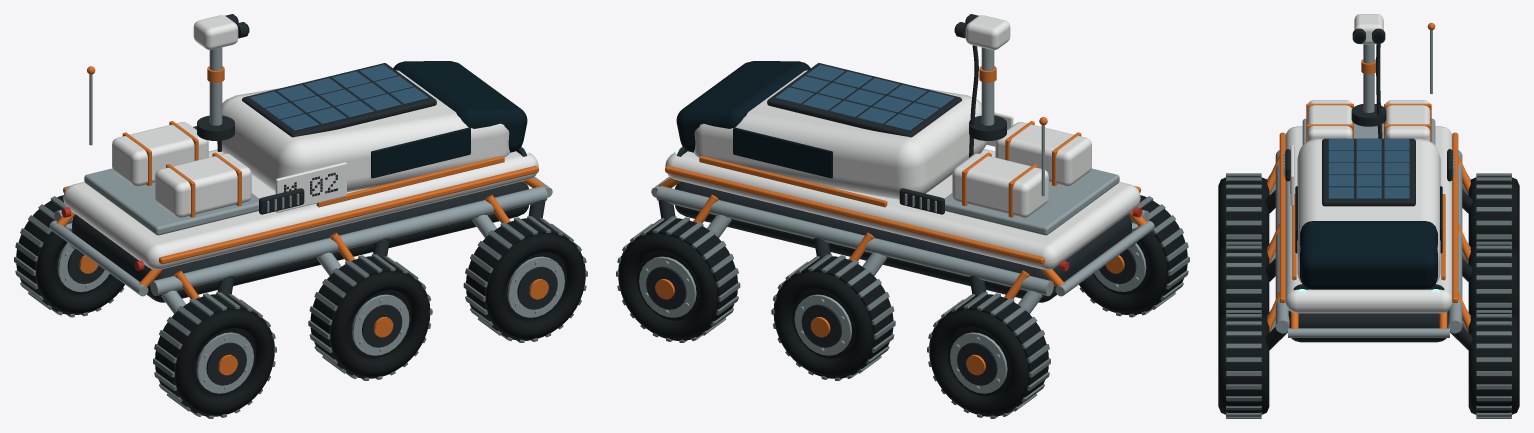
File: rover.glb
The picture shows the model from 3 angles, left to right: view 1: azimuth 30°, elevation 25°; view 2: azimuth 150°, elevation 25°; view 3: azimuth 270°, elevation 25°; orthographic projection. The views are drawn at different scales.
Visible parts, largest first — view 1: ceramic, rubber, titanium, graphite, orange, visor, seam, blue; view 2: ceramic, rubber, titanium, graphite, orange, visor, seam, blue; view 3: rubber, ceramic, visor, seam, graphite, titanium, orange, blue.
Boxes of the visible parts, <box> form: ceramic: <box>63,15,538,269</box>; rubber: <box>16,195,585,416</box>; titanium: <box>49,47,564,393</box>; graphite: <box>67,14,557,385</box>; orange: <box>56,66,548,375</box>; visor: <box>235,16,527,178</box>; seam: <box>14,196,587,418</box>; blue: <box>249,64,428,130</box>; ceramic: <box>665,15,1140,269</box>; rubber: <box>618,195,1187,416</box>; titanium: <box>639,47,1154,393</box>; graphite: <box>646,14,1136,385</box>; orange: <box>655,66,1147,375</box>; visor: <box>676,16,968,178</box>; seam: <box>616,196,1189,418</box>; blue: <box>775,64,954,130</box>; rubber: <box>1218,176,1519,416</box>; ceramic: <box>1285,14,1452,313</box>; visor: <box>1295,33,1442,289</box>; seam: <box>1226,173,1511,418</box>; graphite: <box>1265,28,1472,350</box>; titanium: <box>1267,30,1470,337</box>; orange: <box>1267,23,1470,331</box>; blue: <box>1328,139,1409,198</box>.
Size of the model in its own units: 4.01 by 2.96 by 2.79.
